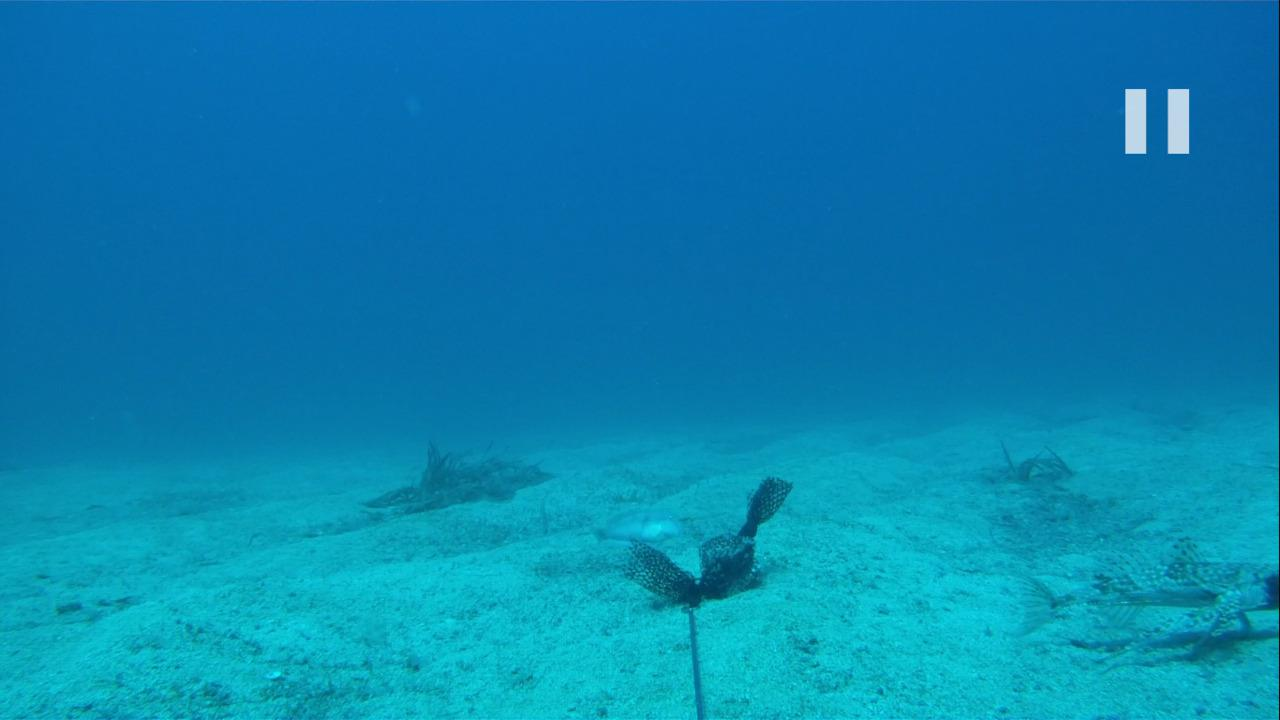dactylopterus: (1014, 536, 1279, 661)
raor: (587, 506, 691, 548)
